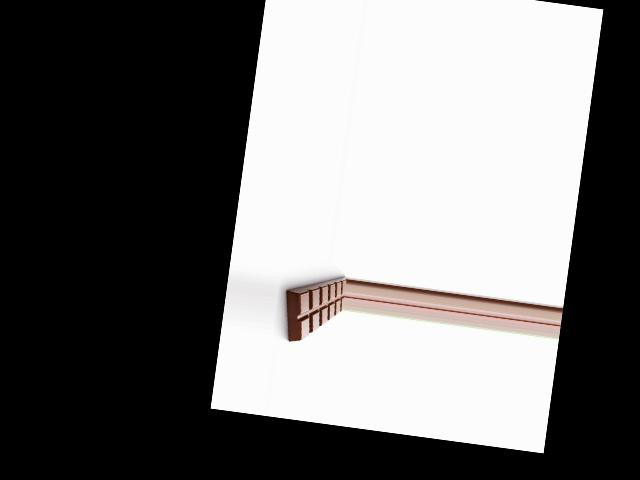chocolate: (278, 264, 346, 348)
